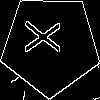X: (25, 20, 69, 54)
